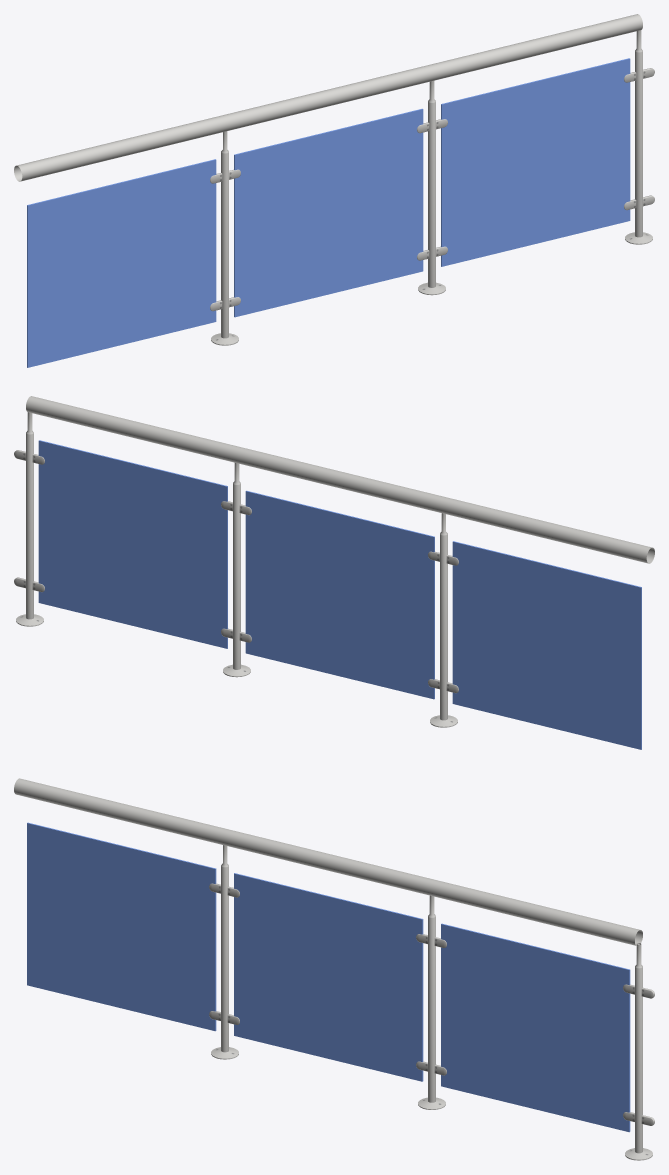
The model's file is Barrier01_8.FBX.
The picture shows the model from 3 angles, top to bottom: view 1: azimuth 30°, elevation 25°; view 2: azimuth 150°, elevation 25°; view 3: azimuth 330°, elevation 25°; orthographic projection.
Parts seen in each view (by area): view 1: Glass, Metal; view 2: Glass, Metal; view 3: Glass, Metal.
Boxes of the visible parts, left/top/right/bottom form: Glass: left=27, top=58, right=630, bottom=367; Metal: left=14, top=14, right=654, bottom=345; Glass: left=38, top=440, right=641, bottom=749; Metal: left=14, top=396, right=654, bottom=727; Glass: left=27, top=822, right=630, bottom=1132; Metal: left=14, top=778, right=654, bottom=1160.
Size of the model in its own units: 307 by 103 by 11.66.
